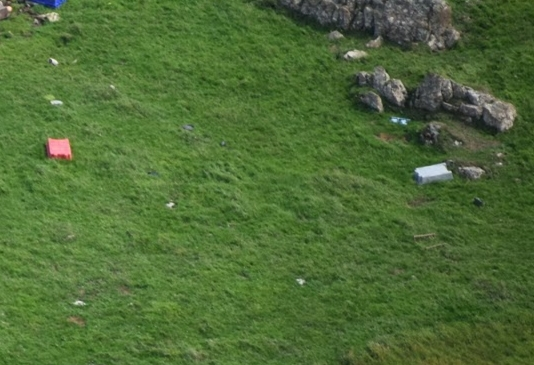white_in_green: (27, 123, 91, 178), (400, 144, 464, 199), (376, 97, 421, 140)
